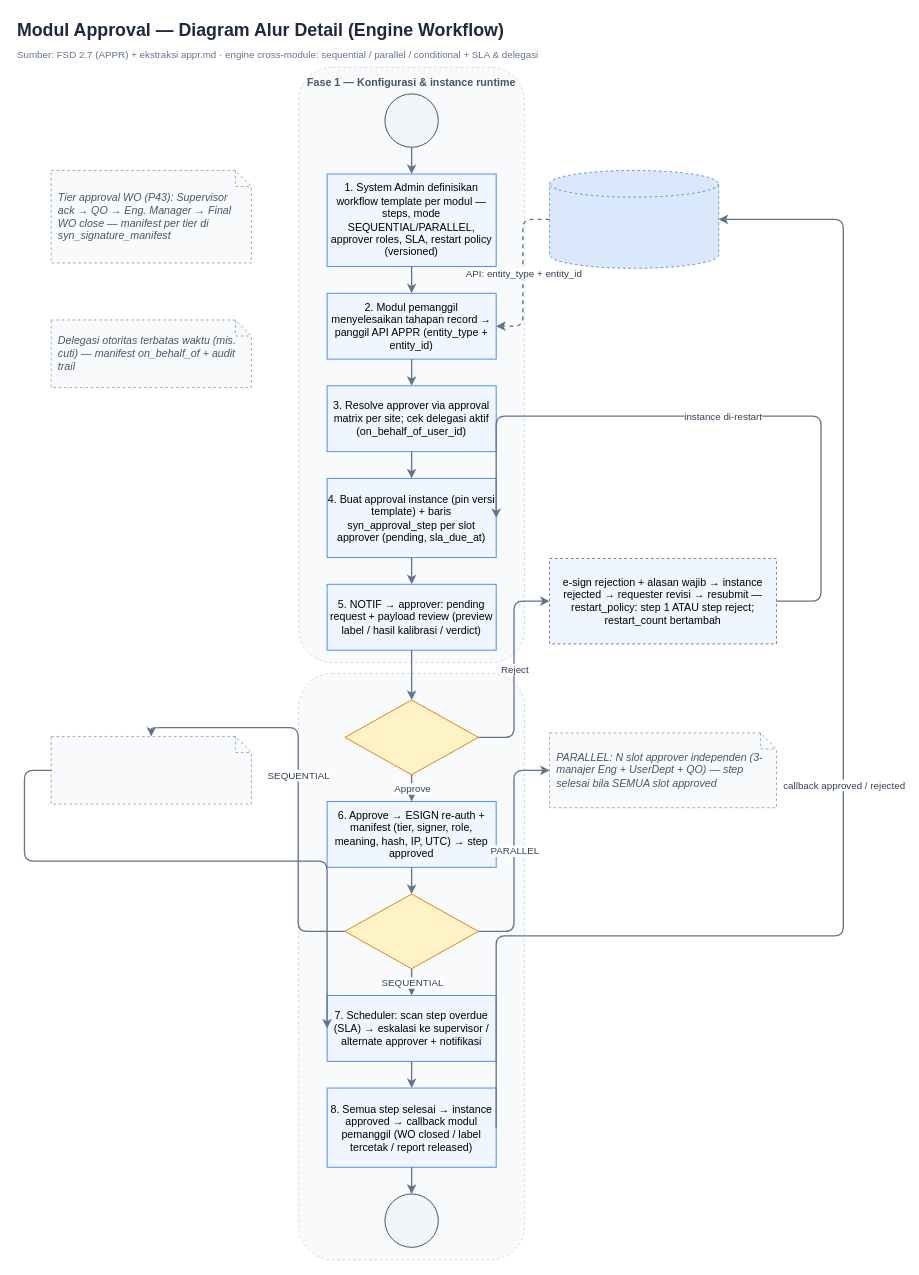
This 919x1275 diagram has some shape labels left out. The shapes that lost their labels are listed below. From the top down, each one's box as (x1, y1, x2, y2) in pixels, then its label:
(384, 93, 438, 147): Mulai
(549, 170, 719, 268): Modul pemanggil (WO / CAL / DOC / LBL / RA / RISK / REP)
(344, 699, 478, 775): Approve / Reject?
(50, 736, 251, 804): SEQUENTIAL: SME → Reviewer → Approver — step selesai → current_step maju
(344, 893, 478, 969): Mode step?
(298, 672, 525, 1260): Fase 2 — Keputusan, routing & penyelesaian
(384, 1193, 438, 1247): Selesai
